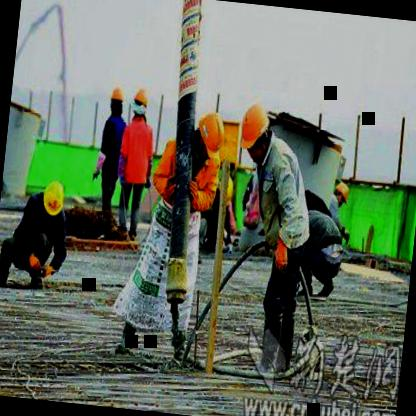helmet: (234, 96, 277, 167), (191, 106, 226, 166), (38, 177, 67, 221), (128, 84, 148, 122), (107, 83, 126, 119), (331, 180, 351, 212)
